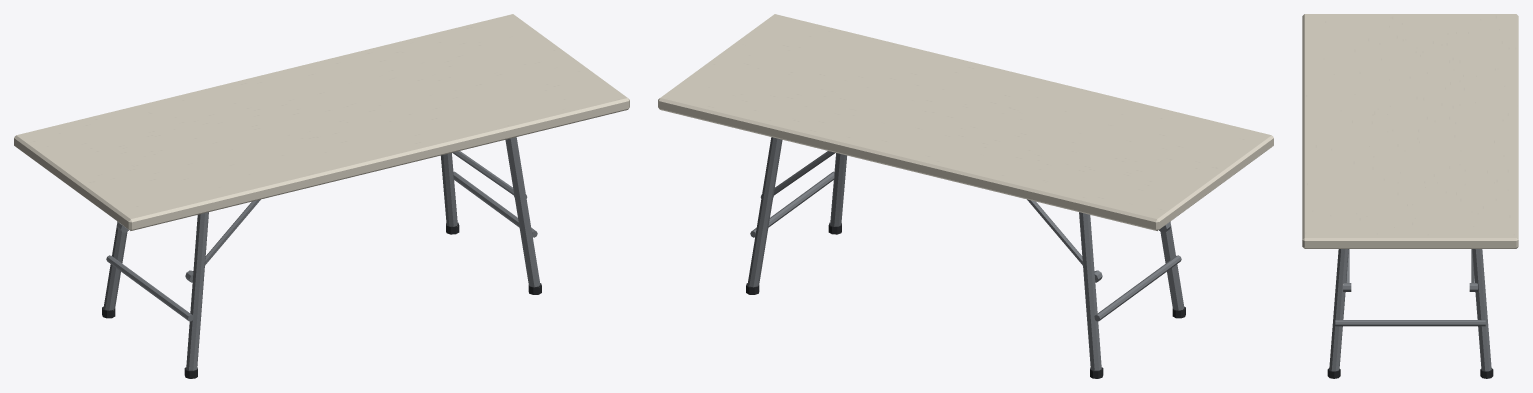
Rendered from party_table_rect.glb.
3 views of the same model, side by side, from view 1: azimuth 30°, elevation 25°; view 2: azimuth 150°, elevation 25°; view 3: azimuth 270°, elevation 25° (orthographic). The views are drawn at different scales.
Parts seen in each view (by area): view 1: party_table_rect_body; view 2: party_table_rect_body; view 3: party_table_rect_body.
Part boxes in pixels (bbox=[...]): party_table_rect_body: bbox=[14, 14, 629, 378]; party_table_rect_body: bbox=[658, 14, 1273, 378]; party_table_rect_body: bbox=[1302, 14, 1518, 378].
Size of the model in its own units: 2.1 by 0.75 by 0.85.
Materials: 3 (3 with a texture image).
